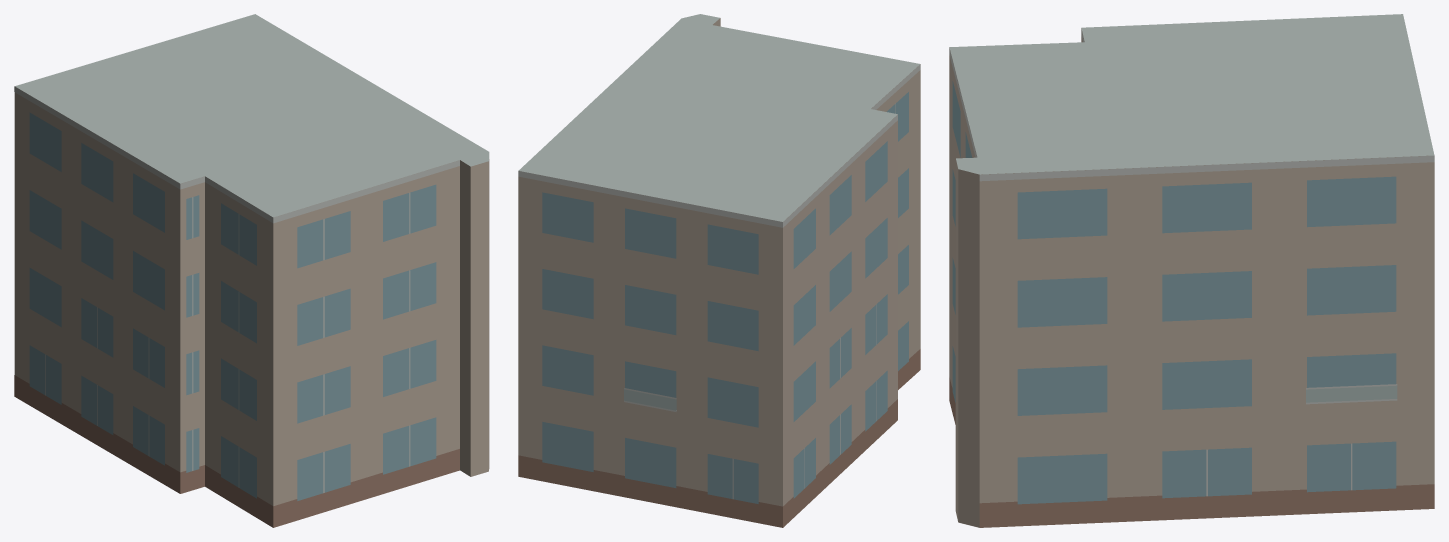
The model's file is survey-upis-33036811.glb.
The picture shows the model from 3 angles, left to right: view 1: azimuth 30°, elevation 25°; view 2: azimuth 150°, elevation 25°; view 3: azimuth 270°, elevation 25°; orthographic projection. The views are drawn at different scales.
Visible parts, largest first — view 1: survey-upis-33036811.tmp; view 2: survey-upis-33036811.tmp; view 3: survey-upis-33036811.tmp.
Boxes of the visible parts, x1,y1,x2,y2 form: survey-upis-33036811.tmp: [14, 14, 489, 527]; survey-upis-33036811.tmp: [518, 14, 920, 527]; survey-upis-33036811.tmp: [949, 14, 1434, 527].
Bounding box in the file's own units: 12.48 × 12.8 × 15.94.
